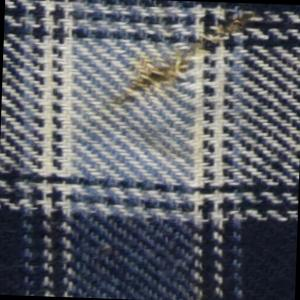Damage: (118, 12, 248, 110)
Oil Stain: (93, 1, 275, 129)
